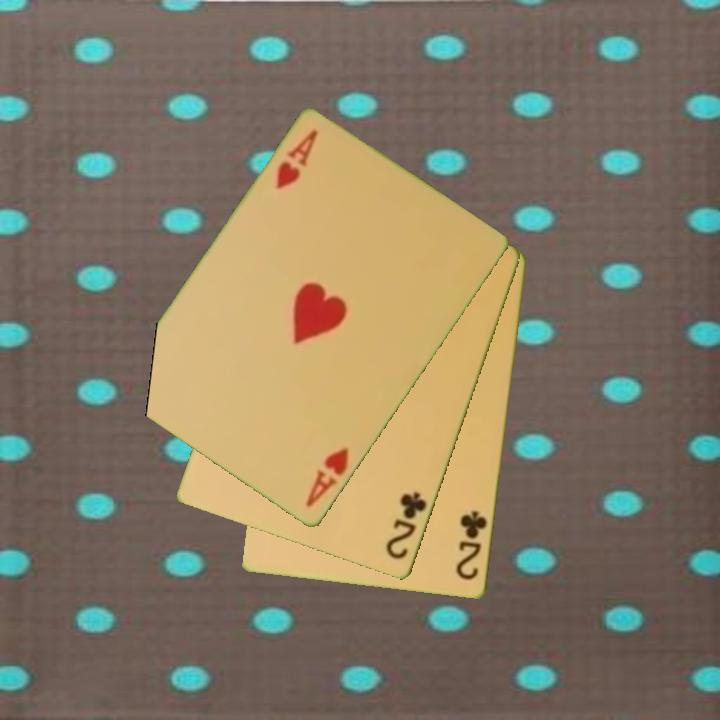2c: (382, 489, 430, 563), (453, 507, 491, 584)
Ah: (302, 444, 352, 511), (273, 127, 321, 193)
